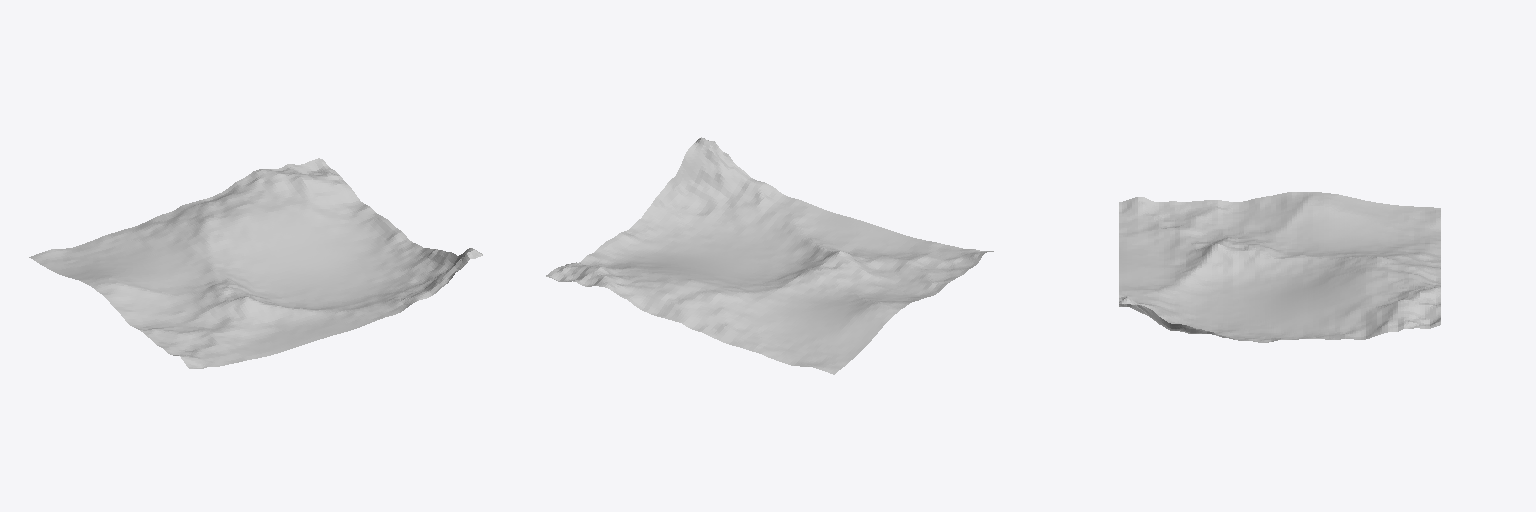
Rendered from ground8.obj.
3 renders of one model, left to right at view 1: azimuth 30°, elevation 25°; view 2: azimuth 150°, elevation 25°; view 3: azimuth 270°, elevation 25°, orthographic.
Visible parts, largest first — view 1: ground8; view 2: ground8; view 3: ground8.
Part boxes in pixels (left/top/right/bottom): ground8: left=29, top=158, right=482, bottom=368; ground8: left=546, top=137, right=993, bottom=374; ground8: left=1119, top=192, right=1440, bottom=342.
Size of the model in its own units: 84.46 by 15.07 by 79.94.